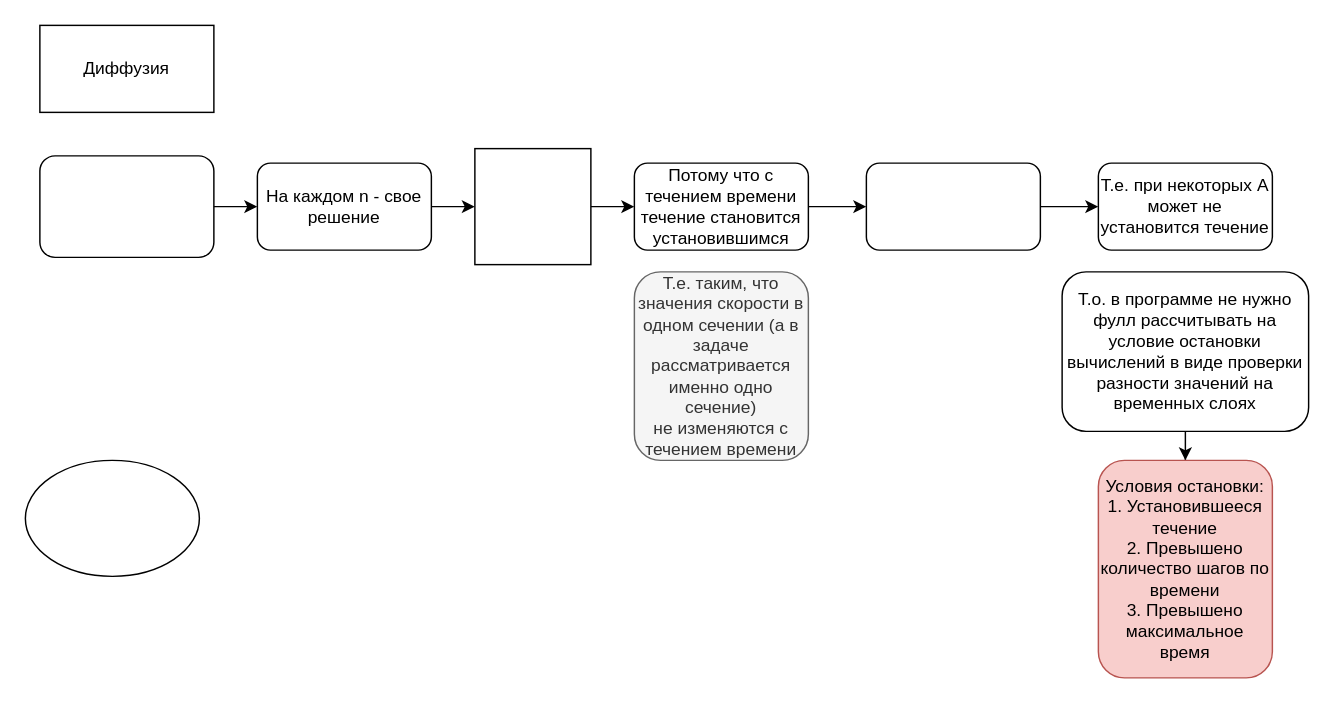
The diagram is 1334 pixels wide and 703 high, and some of its shapes have lost their labels. The centre of each missing label's shape, as x and y in pixels:
"Консервативная форма - и что?" belongs at (x=111, y=517).
"Но не совсем" belongs at (x=532, y=206).
"Нужно получить решение: u(i, n) для всех i, но с n - по-интереснее" belongs at (x=126, y=205).
"Хотя это ведь еще зависит от градиента давления" belongs at (x=952, y=206).
